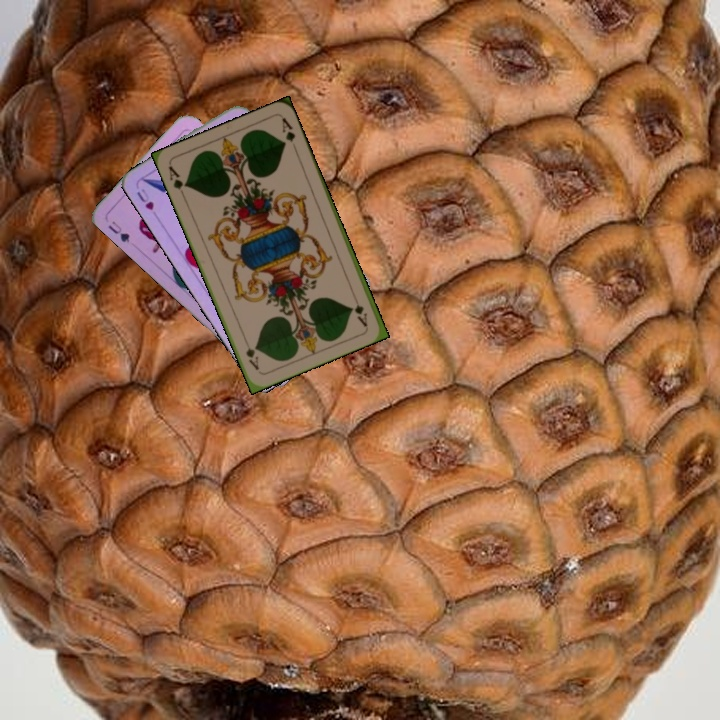GA: (164, 162, 190, 200), (348, 289, 370, 329)
GU: (104, 217, 132, 245)
HU: (133, 184, 157, 213)
